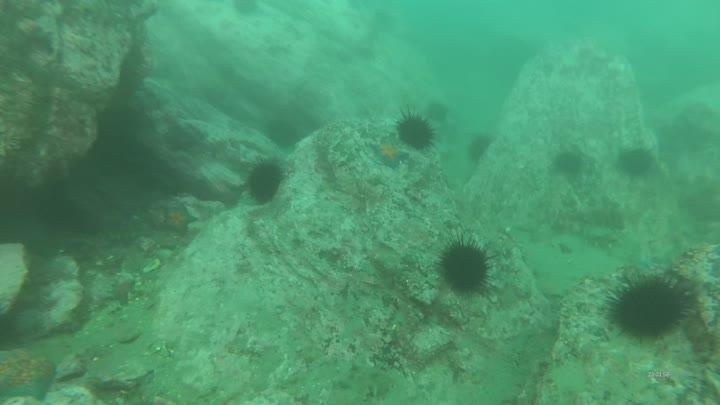echinus: (605, 271, 694, 343), (435, 235, 495, 298), (243, 158, 287, 206), (393, 110, 437, 152), (615, 144, 656, 181), (263, 116, 302, 151), (550, 147, 586, 179), (464, 131, 495, 165), (424, 99, 451, 125), (229, 1, 263, 20)
holothurian: (326, 360, 405, 403), (539, 214, 629, 248), (547, 197, 627, 235)
starfish: (1, 344, 61, 403), (155, 200, 199, 237), (369, 137, 410, 170), (105, 276, 138, 307)
